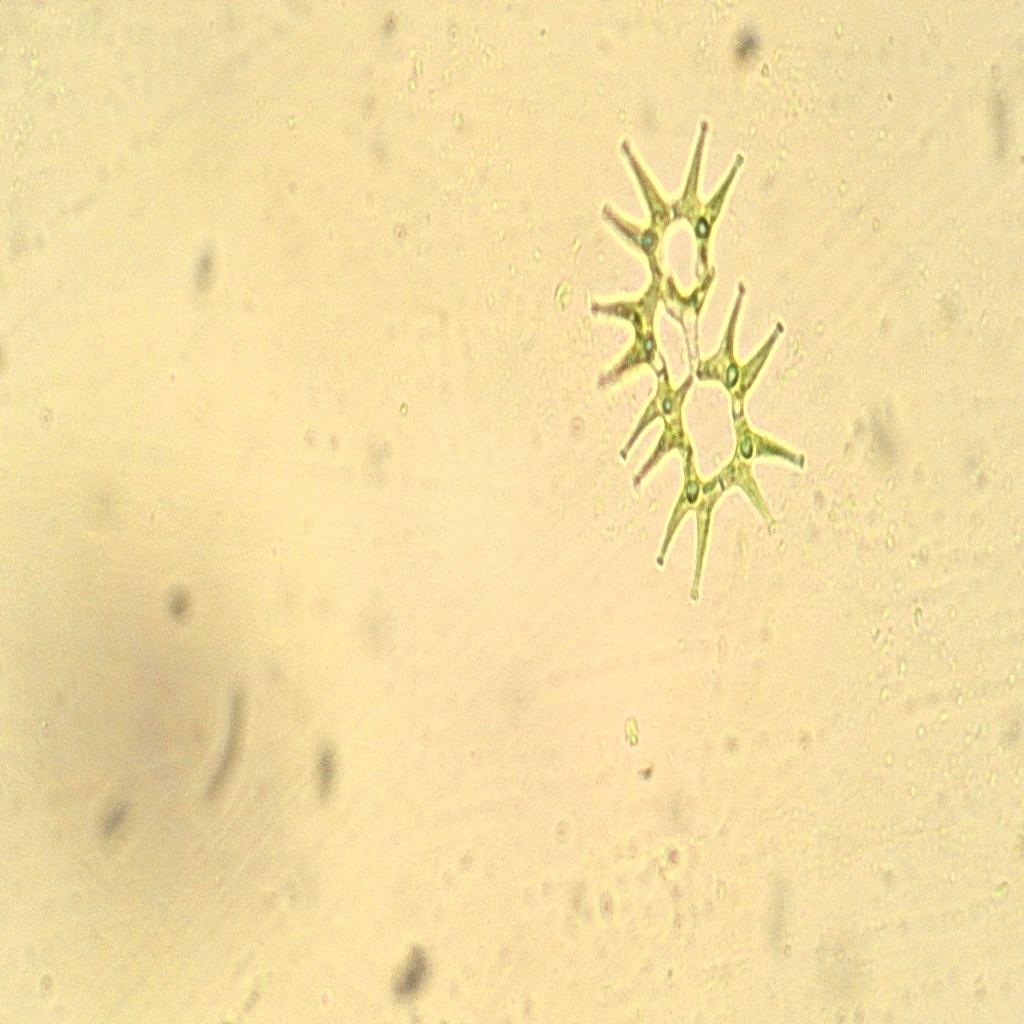Pediastrum_CFI: (586, 75, 816, 623)
